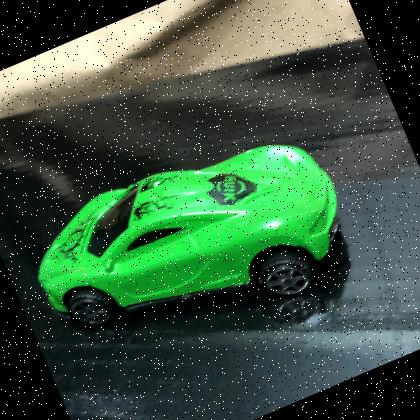Car: (38, 145, 341, 328)
